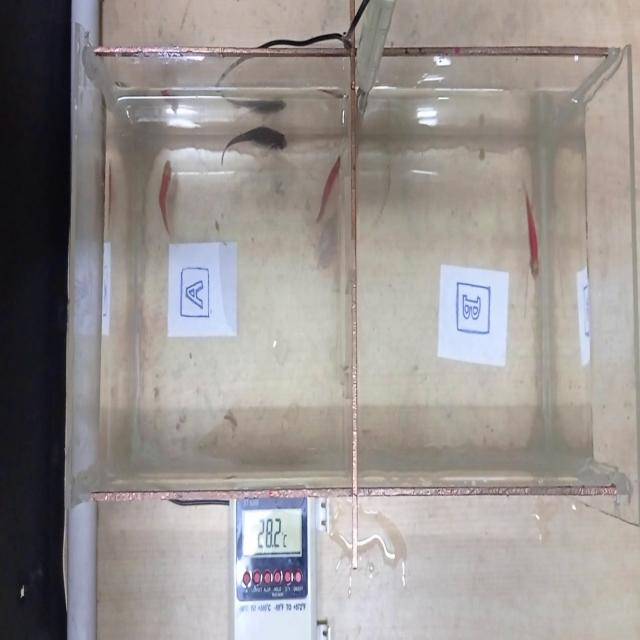Fish A1: (214, 115, 295, 190)
Fish A2: (152, 148, 185, 254)
Fish A3: (311, 144, 348, 258)
Fish B: (518, 172, 545, 305)
